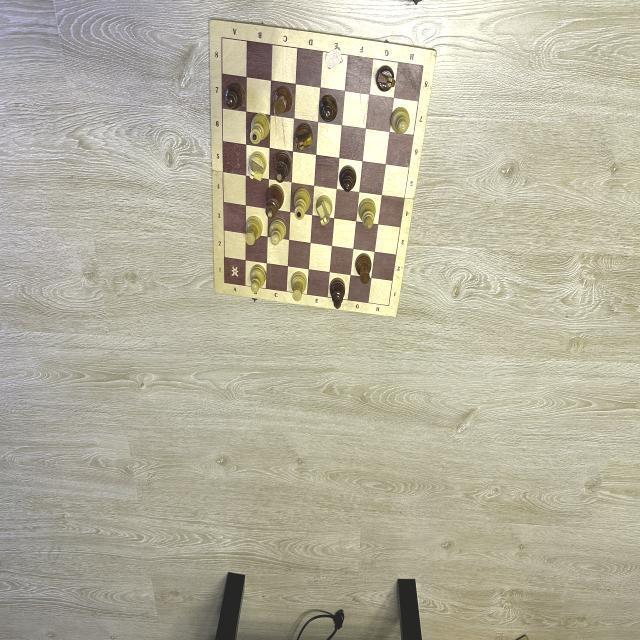chess-table-corners: (220, 35, 224, 41), (422, 63, 426, 69), (223, 280, 226, 286), (387, 303, 390, 308)
